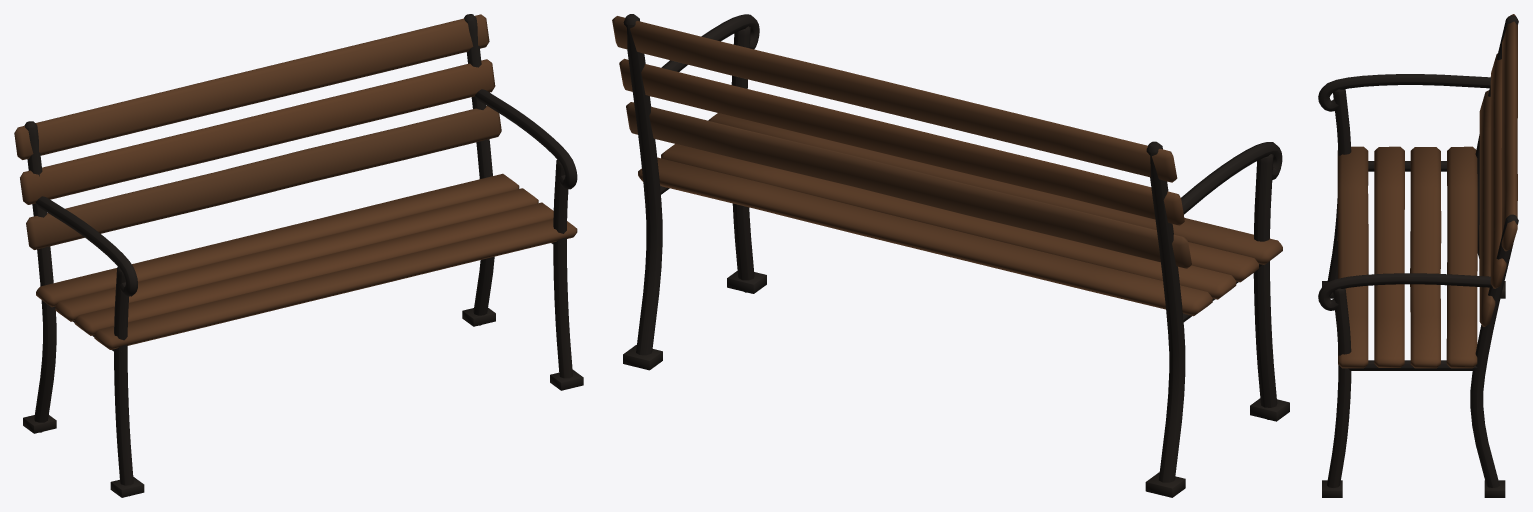
Rendered from street_bench.glb.
The picture shows the model from 3 angles, left to right: view 1: azimuth 30°, elevation 25°; view 2: azimuth 150°, elevation 25°; view 3: azimuth 270°, elevation 25°; orthographic projection. The views are drawn at different scales.
Parts seen in each view (by area): view 1: Sammel Holz, Sammel Metall; view 2: Sammel Holz, Sammel Metall; view 3: Sammel Holz, Sammel Metall.
Part boxes in pixels (x1=…): Sammel Holz: x1=14, y1=14, x2=577, y2=349; Sammel Metall: x1=23, y1=14, x2=583, y2=497; Sammel Holz: x1=612, y1=16, x2=1282, y2=316; Sammel Metall: x1=623, y1=14, x2=1289, y2=497; Sammel Holz: x1=1337, y1=14, x2=1517, y2=368; Sammel Metall: x1=1318, y1=15, x2=1518, y2=497.
Size of what is drawn, in the model's own units: 1.46 by 0.8966 by 0.5789.
